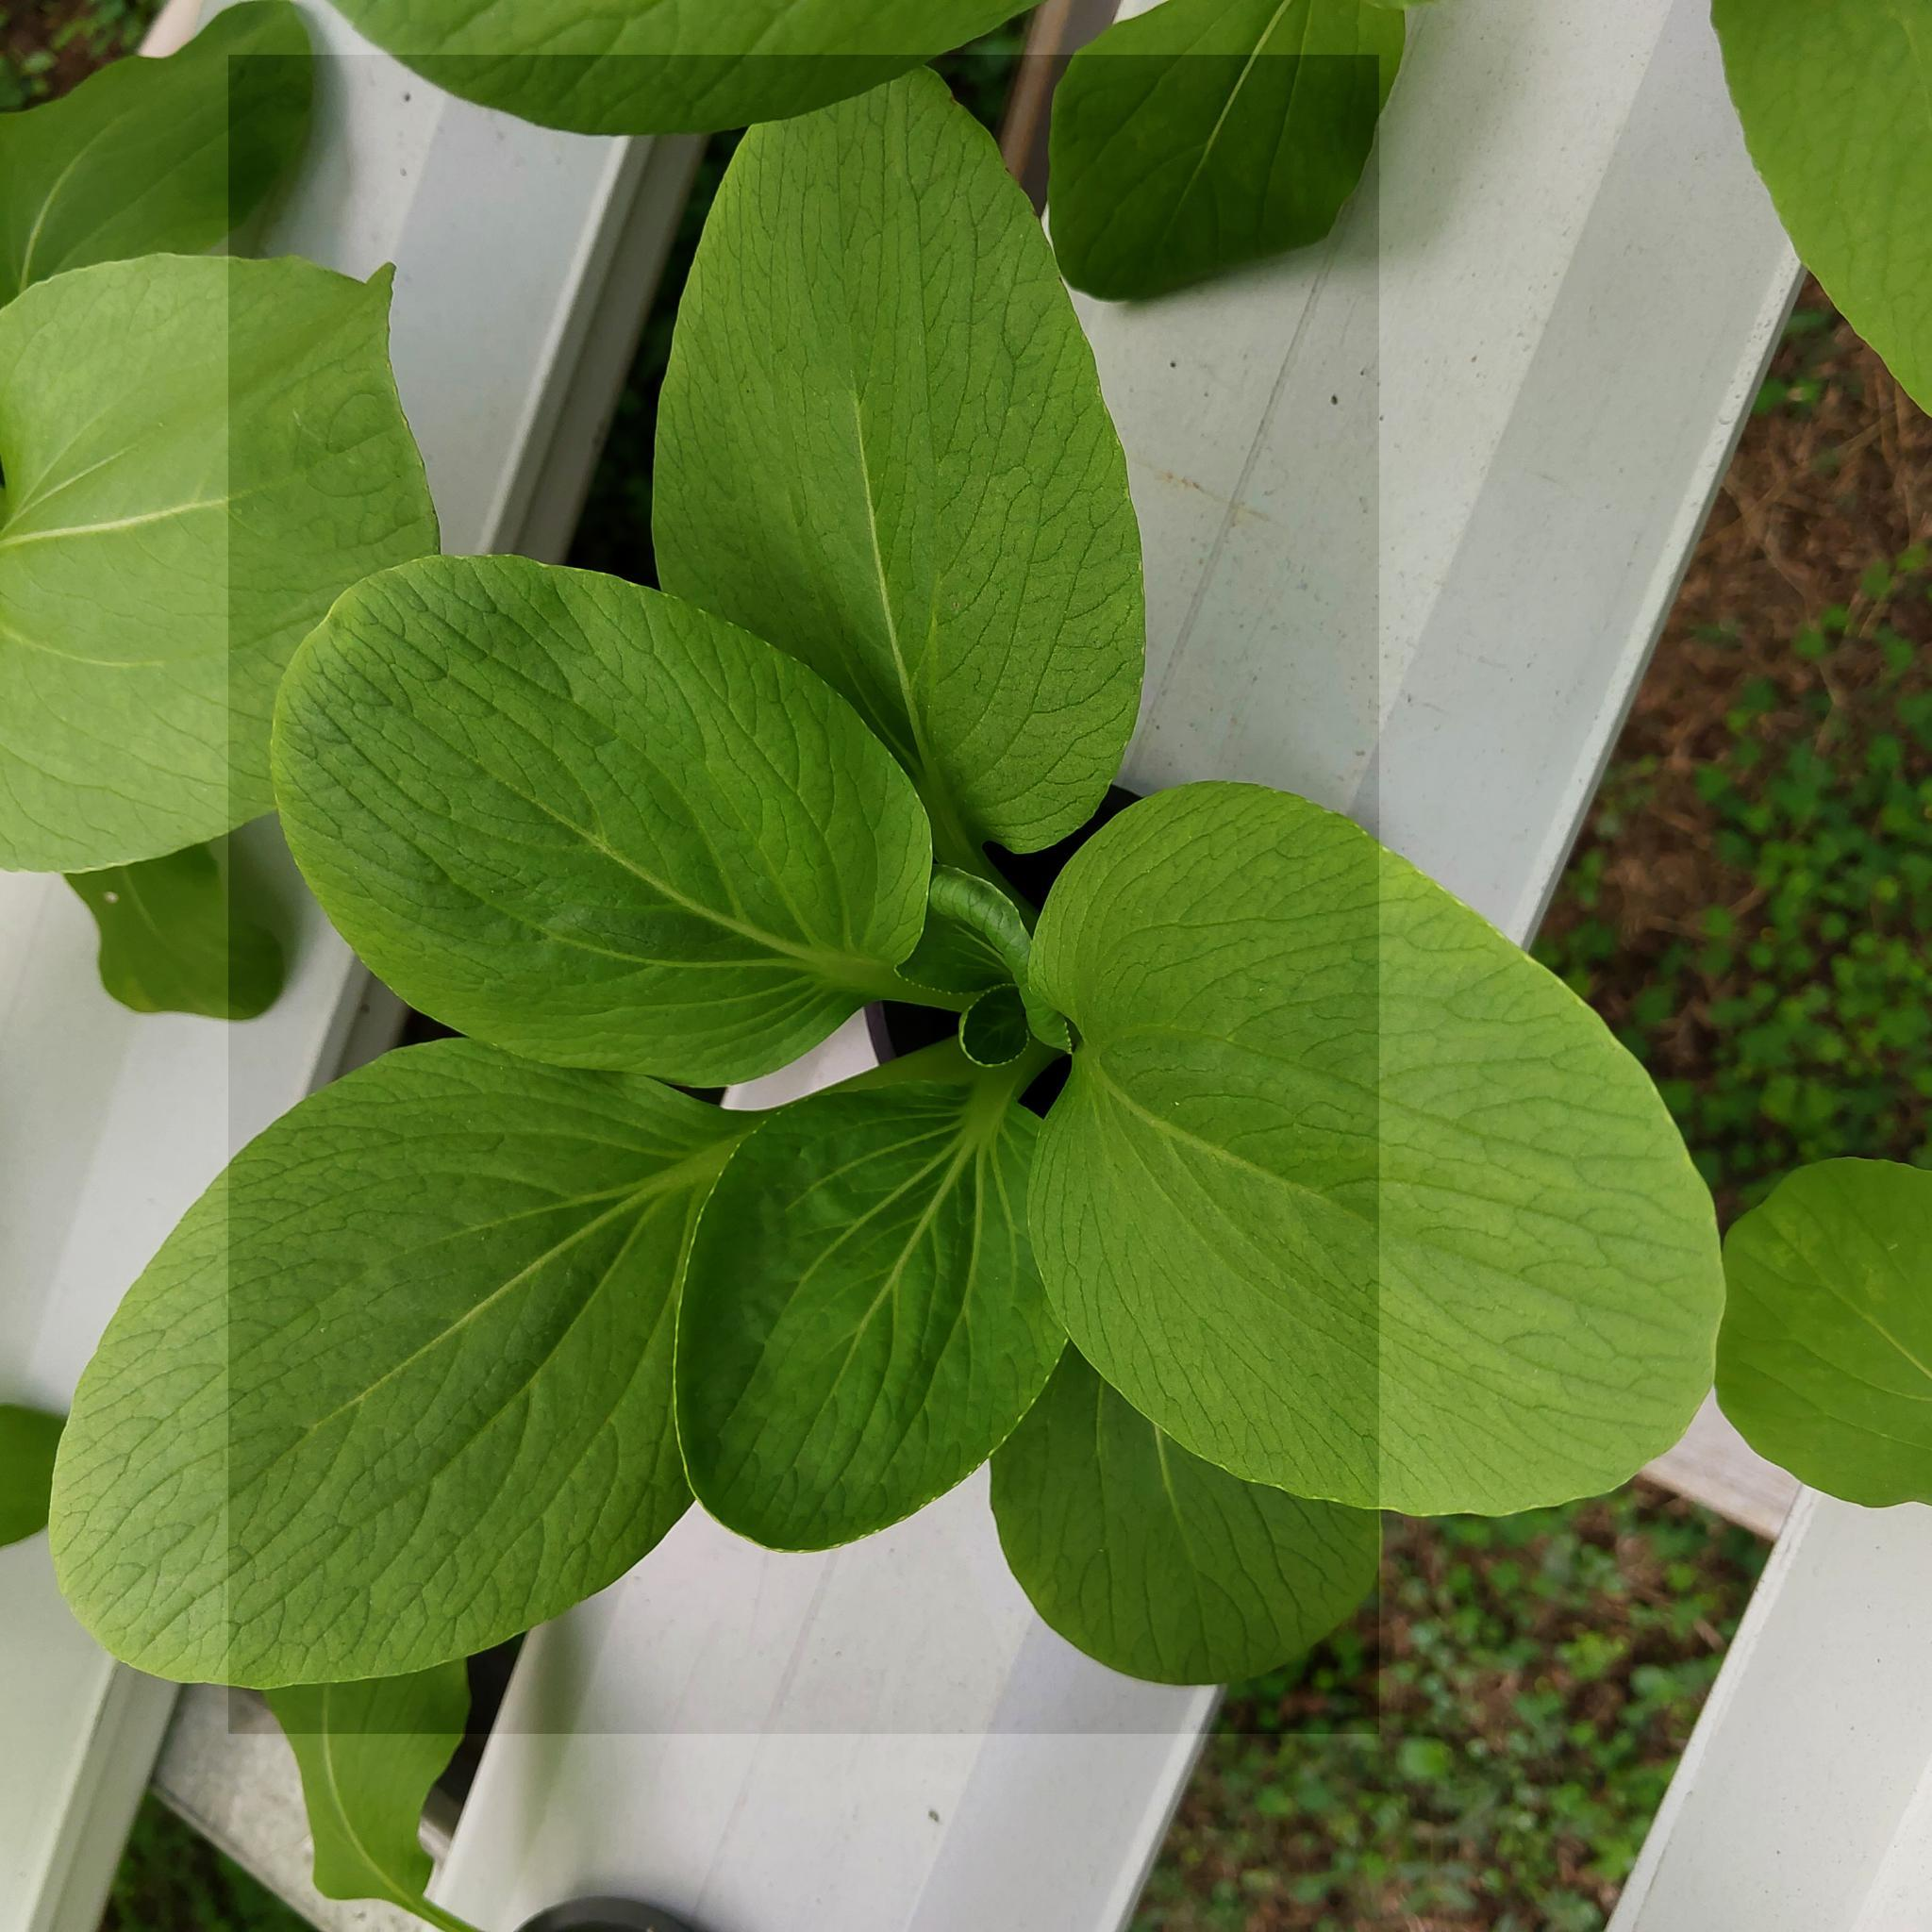Healthy-Pechay: (46, 1042, 787, 1706), (1058, 809, 1739, 1523), (269, 557, 962, 1058), (671, 67, 1095, 872), (4, 246, 448, 878), (671, 1037, 1028, 1564), (1047, 1322, 1371, 1686), (1060, 4, 1424, 304), (290, 2, 1072, 136), (2, 5, 313, 333), (64, 842, 285, 1023), (90, 1778, 327, 1925), (11, 495, 223, 564), (2, 1399, 71, 1564), (1626, 982, 1683, 1033)
